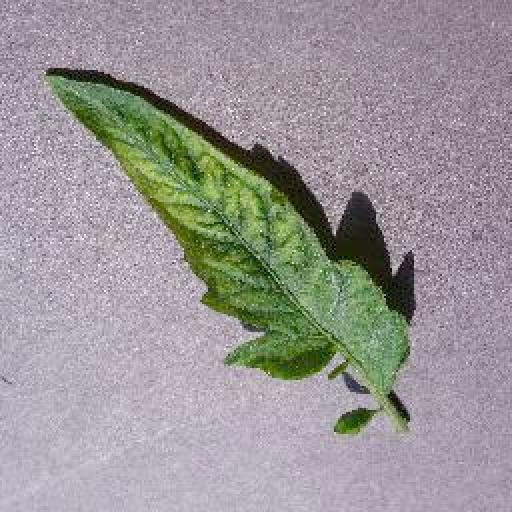disease_tomato: (40, 70, 410, 396)
